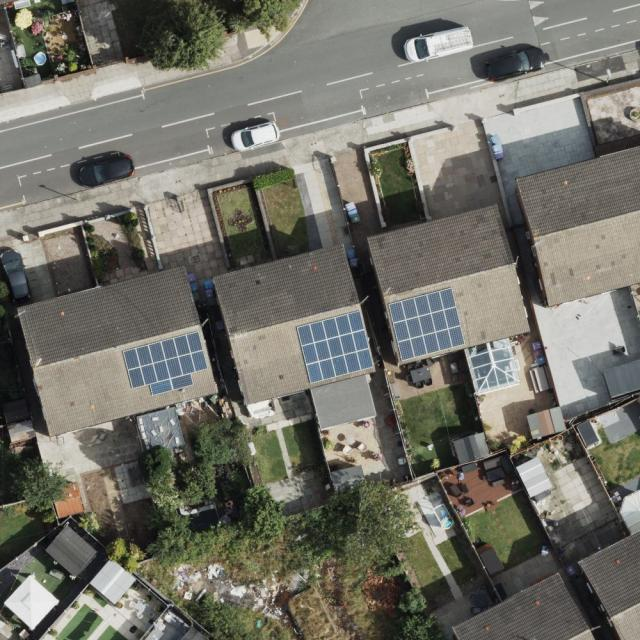roof: (16, 265, 218, 438), (367, 202, 531, 365), (214, 244, 377, 406), (516, 144, 640, 307), (453, 571, 596, 640), (578, 530, 640, 640)
solar: (386, 286, 466, 363), (297, 311, 375, 384), (120, 331, 208, 395)
